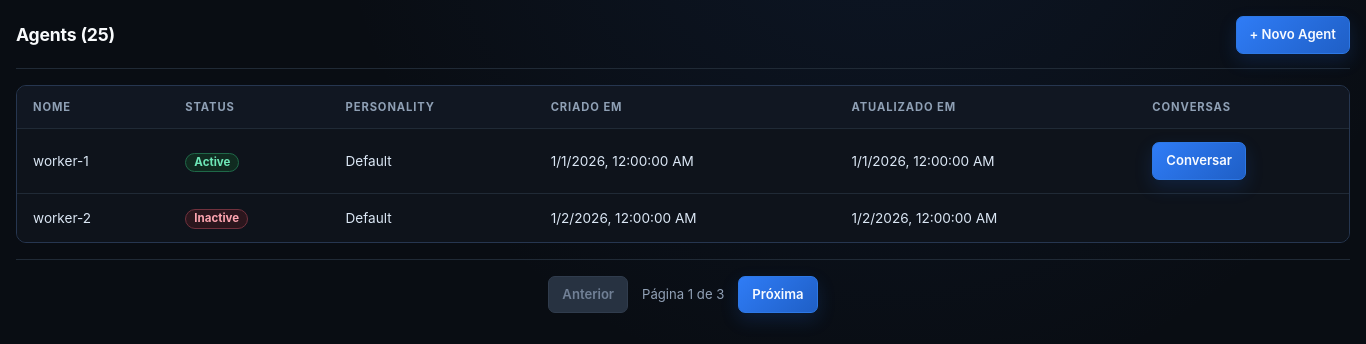
Test: AgentList › navigates to next page on click
Check: the text "Página 1 de 3" is shown, box left=642, top=285, right=724, bottom=304
Click the button "Próxima".
click(778, 295)  # box left=738, top=276, right=818, bottom=313
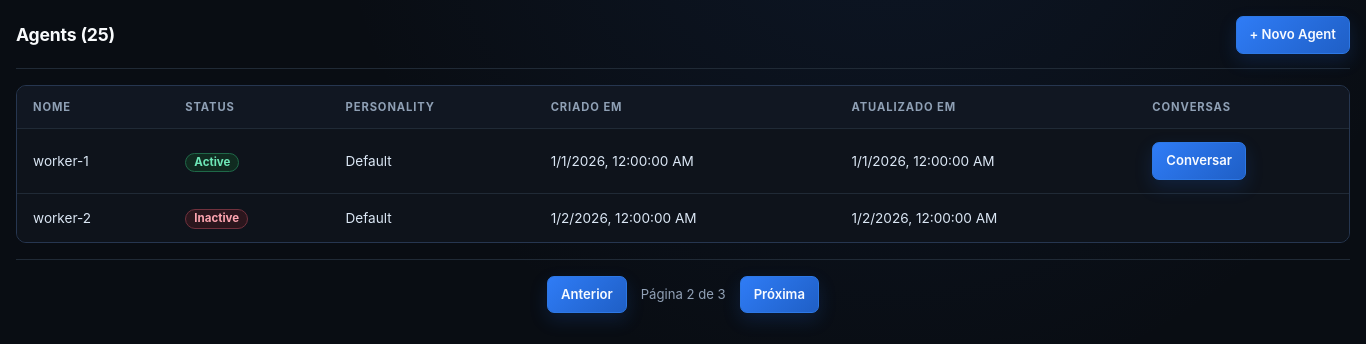
Check: the text "Página 2 de 3" is shown, box left=641, top=285, right=726, bottom=304
